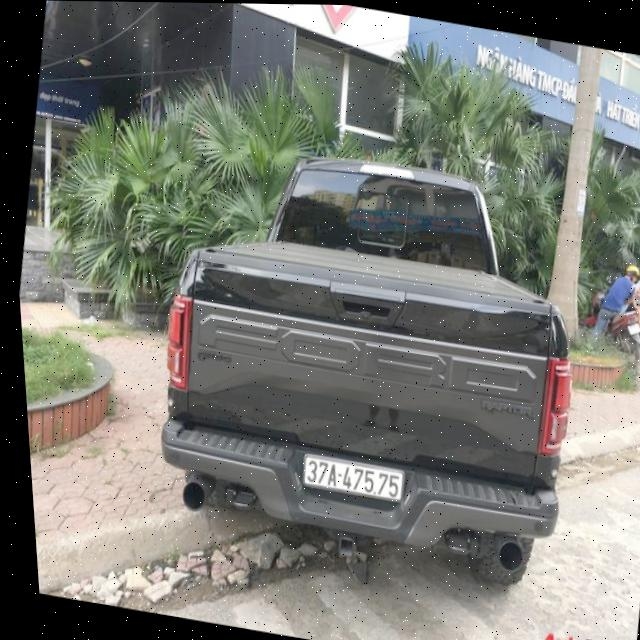car: (118, 125, 623, 592)
plate: (294, 447, 413, 509)
